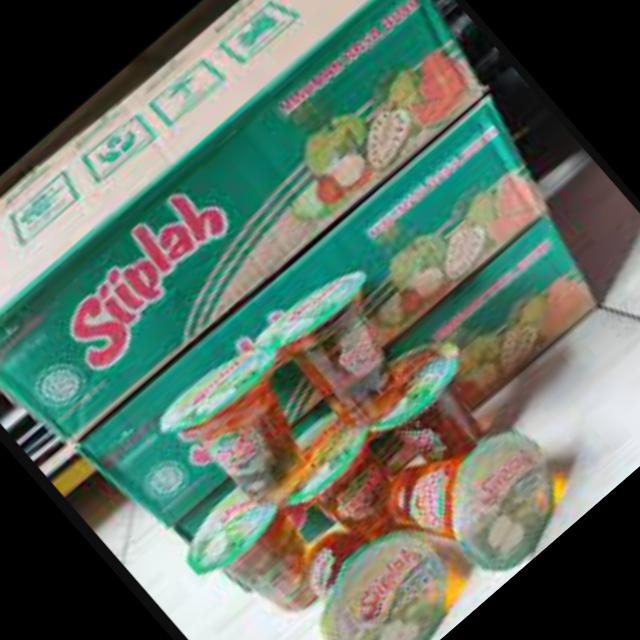GelasPlastik: (97, 231, 595, 640)
